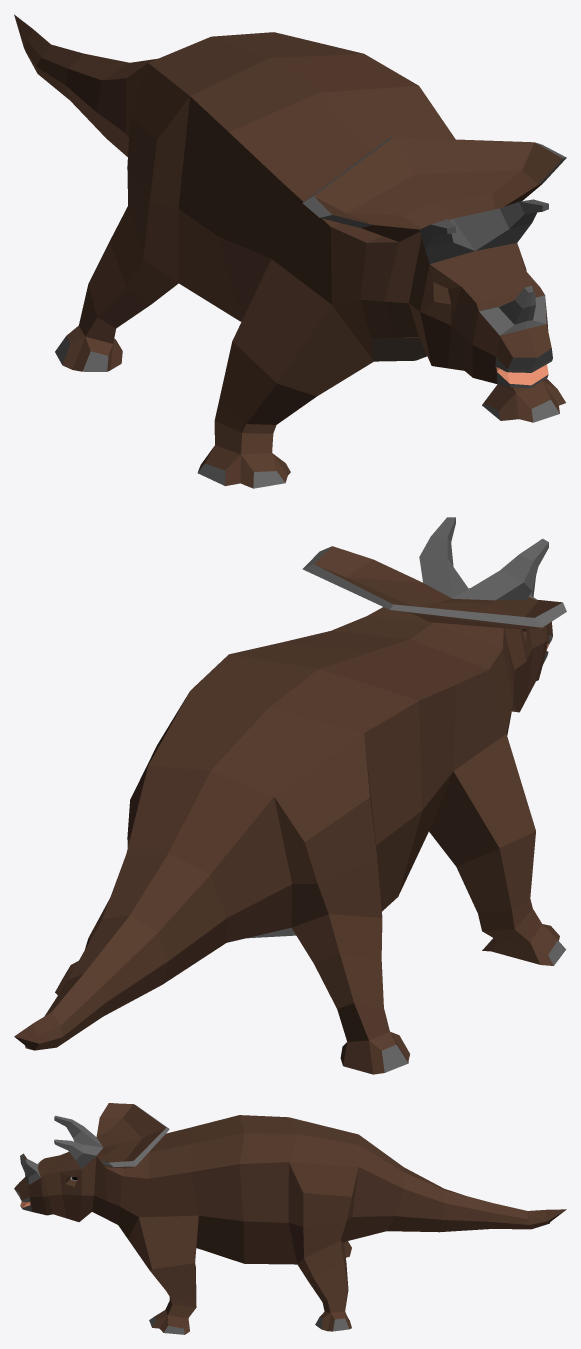
The model's file is Triceratops.glb.
The picture shows the model from 3 angles, top to bottom: view 1: azimuth 30°, elevation 25°; view 2: azimuth 150°, elevation 25°; view 3: azimuth 270°, elevation 25°; orthographic projection. The views are drawn at different scales.
Visible parts, largest first — view 1: Cube; view 2: Cube; view 3: Cube.
Boxes of the visible parts, x1,y1,x2,y2 form: Cube: (14, 14, 566, 488); Cube: (14, 517, 566, 1074); Cube: (14, 1103, 566, 1334).
Size of the model in its own units: 4.1 by 3.38 by 10.42.
